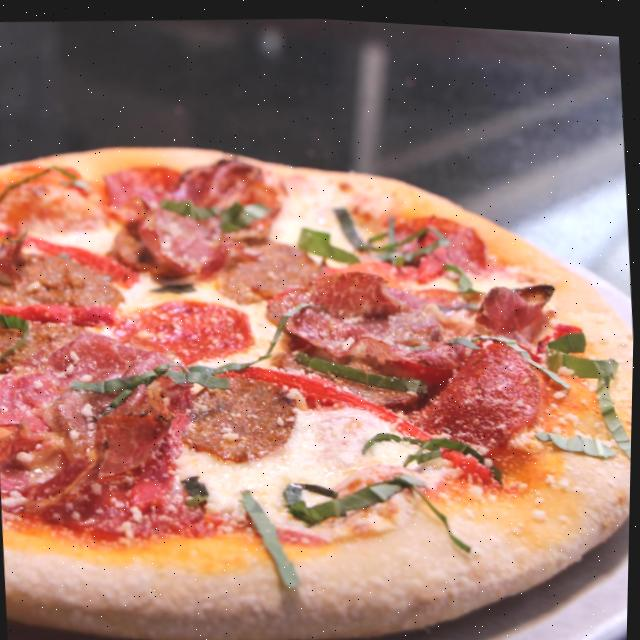pepperoni: (263, 272, 448, 360), (416, 333, 544, 438), (181, 368, 302, 463), (113, 289, 256, 366), (0, 418, 99, 515), (91, 384, 172, 478), (383, 207, 488, 277), (100, 163, 185, 225)
pizza: (0, 104, 638, 640)
